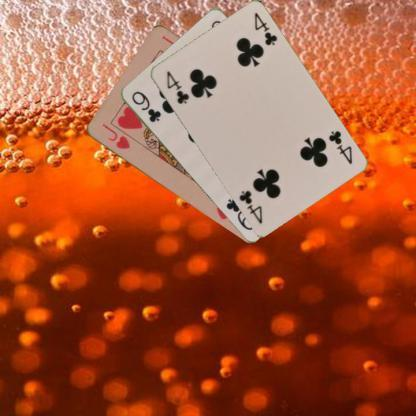4c: (325, 128, 354, 166), (164, 68, 190, 105)
9c: (128, 88, 162, 124)
Jh: (98, 120, 131, 151)
